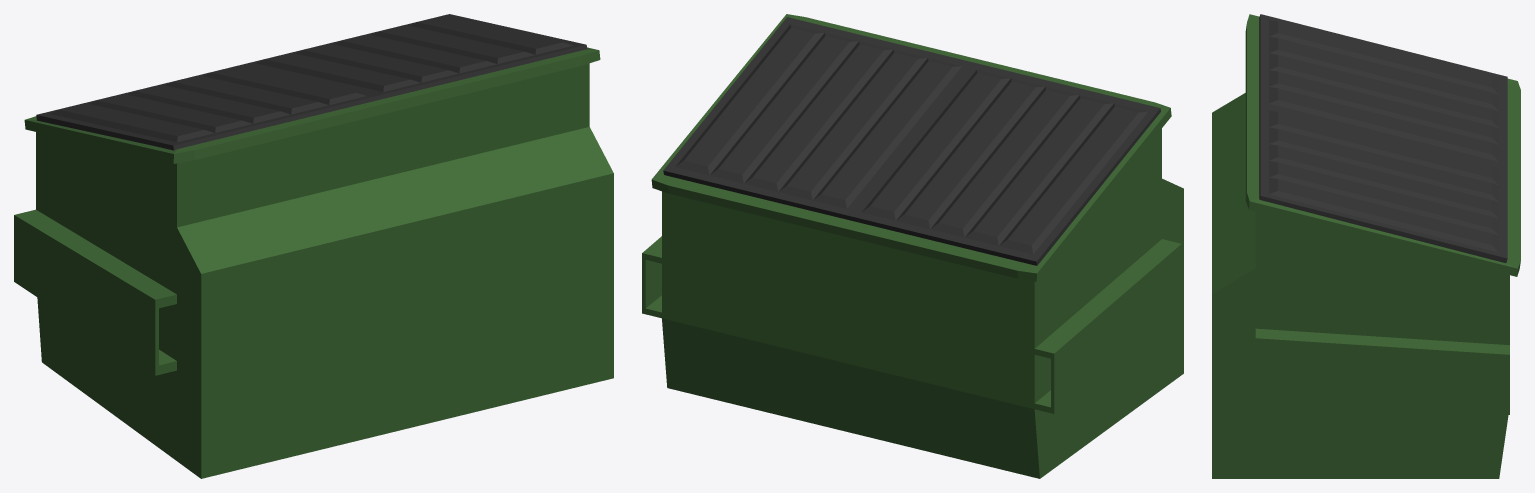
Rendered from Dumpster.fbx.
3 renders of one model, left to right at view 1: azimuth 30°, elevation 25°; view 2: azimuth 150°, elevation 25°; view 3: azimuth 270°, elevation 25°, orthographic. The views are drawn at different scales.
Visible parts, largest first — view 1: Dumpster; view 2: Dumpster; view 3: Dumpster.
Boxes of the visible parts, x1,y1,x2,y2 form: Dumpster: (14,14,613,478); Dumpster: (642,14,1183,478); Dumpster: (1212,14,1520,478).
Bounding box in the file's own units: 904 × 594 × 588.
